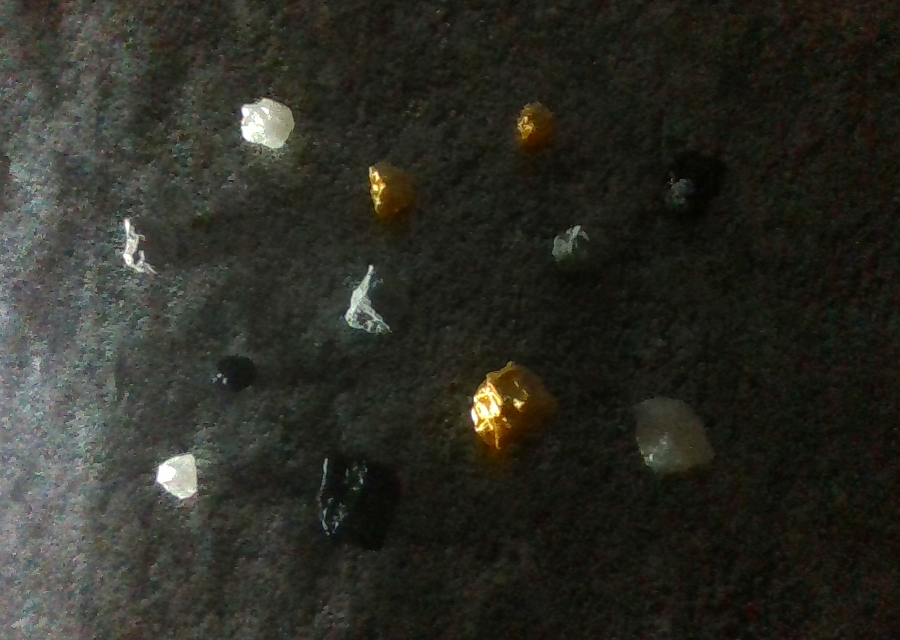anorthosite: (632, 395, 717, 473), (242, 99, 295, 149), (157, 455, 198, 497)
basalt: (316, 451, 402, 551), (660, 150, 726, 218), (212, 355, 258, 393)
metal: (472, 361, 560, 450), (370, 160, 415, 218), (517, 101, 554, 146)
regolith: (345, 265, 411, 333), (125, 217, 181, 275), (555, 224, 610, 273)
